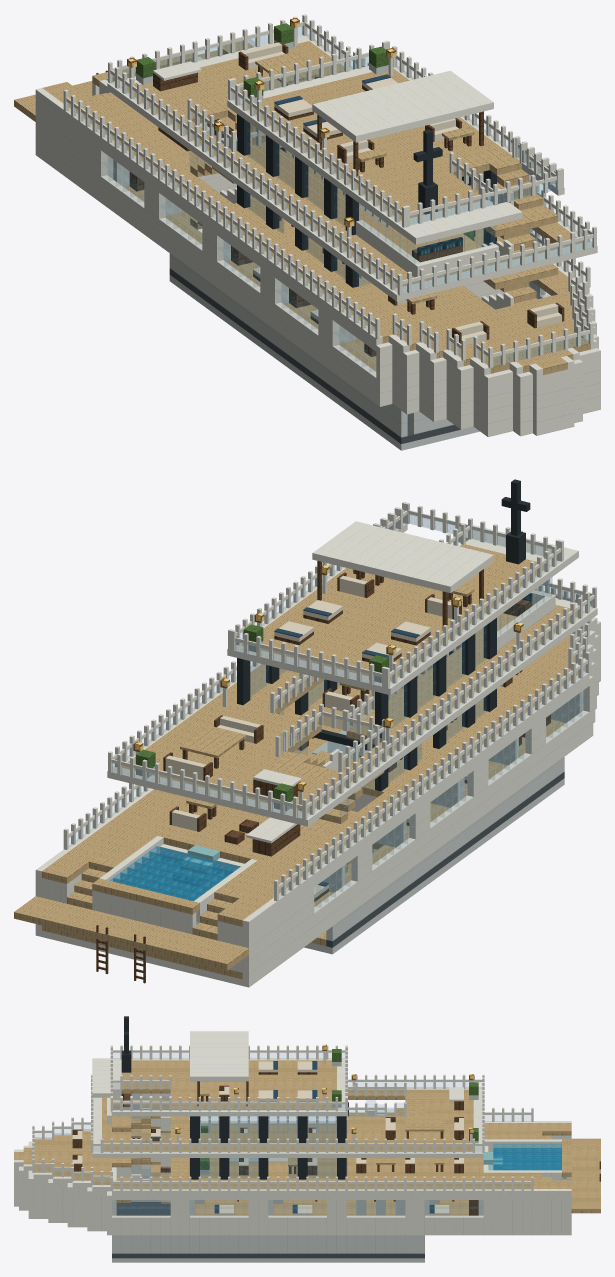
The model's file is white_horizon.obj.
3 views of the same model, one above another, from view 1: azimuth 30°, elevation 25°; view 2: azimuth 150°, elevation 25°; view 3: azimuth 270°, elevation 25° (orthographic). The views are drawn at different scales.
Size of the model in its own units: 17 by 23 by 60.
15 materials, 15 textured.
